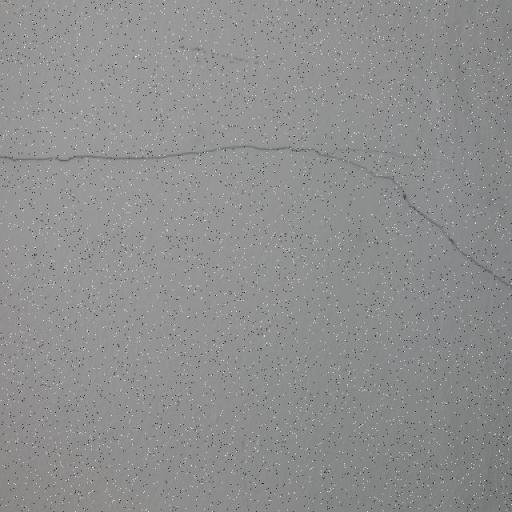severe crack: (0, 138, 512, 296)
